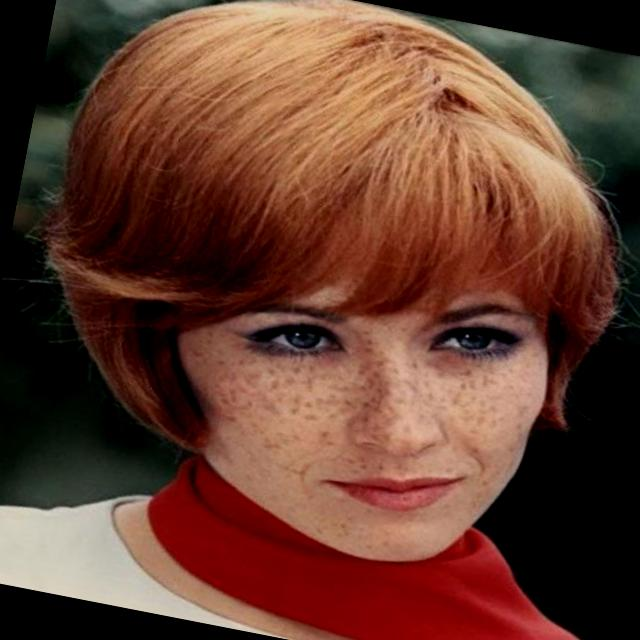freckle: (195, 312, 548, 497)
